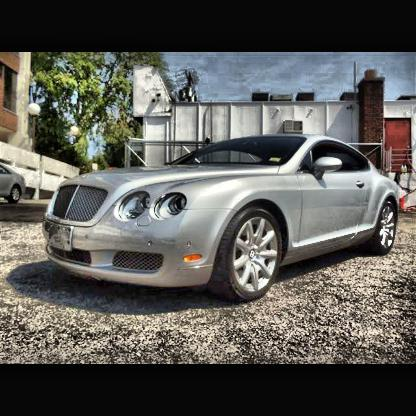Bentley Continental GT Coupe 2007: (43, 136, 401, 299)
